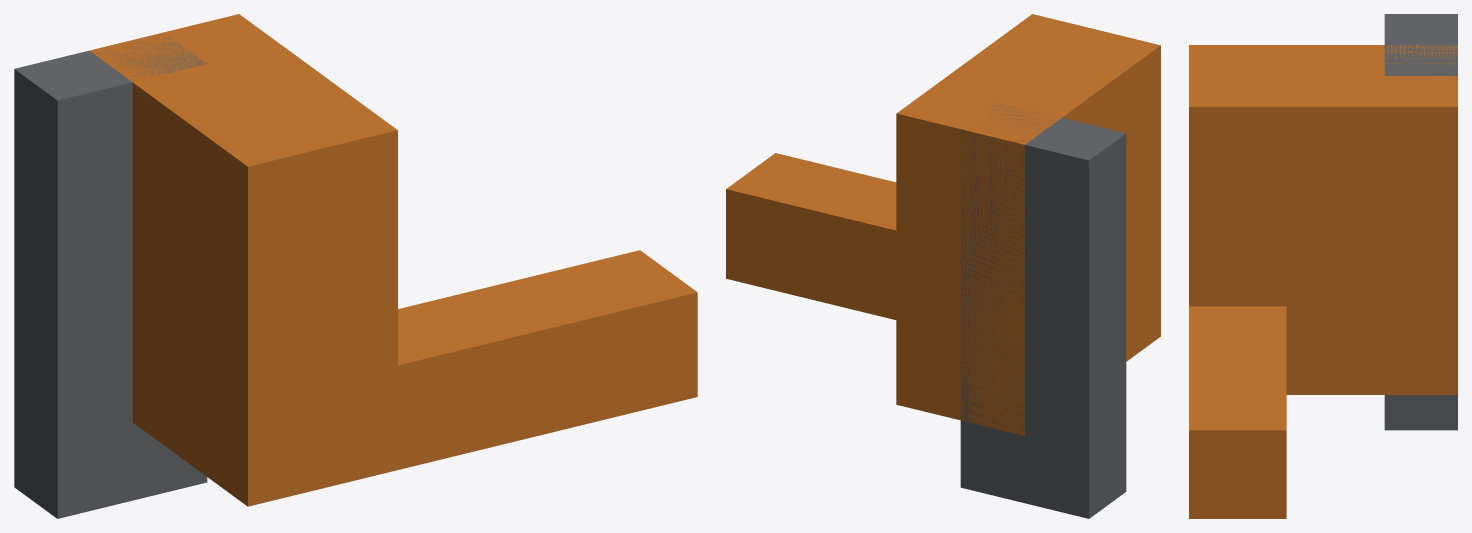
The model's file is finger_lower_body.obj.
3 renders of one model, left to right at view 1: azimuth 30°, elevation 25°; view 2: azimuth 150°, elevation 25°; view 3: azimuth 270°, elevation 25°, orthographic. The views are drawn at different scales.
Size of the model in its own units: 0.021 by 0.016 by 0.011.
